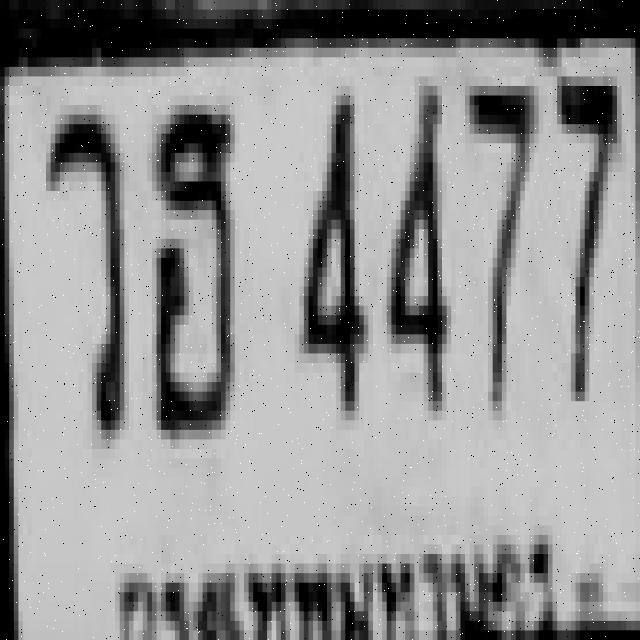4: (382, 76, 447, 402), (297, 81, 361, 406)
46WorWaen: (42, 105, 120, 430)
53HorNokHook: (147, 96, 230, 430)
7: (466, 76, 530, 402), (552, 67, 612, 392)
